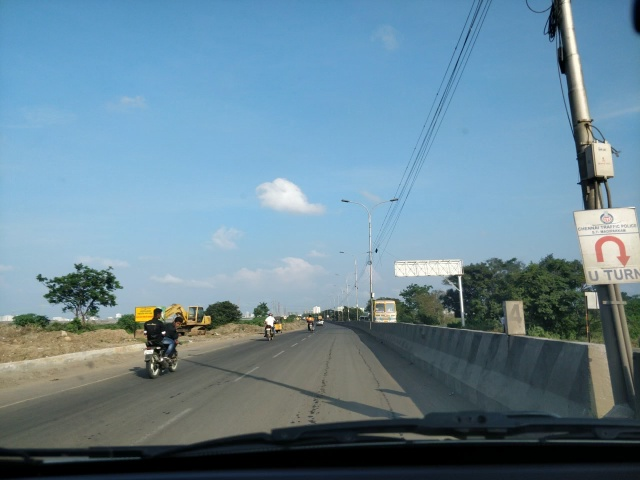auto: (273, 309, 286, 337)
car: (313, 314, 327, 330)
motorbike: (129, 308, 188, 371), (252, 308, 276, 345), (300, 307, 317, 344)
truck: (364, 298, 403, 339)
